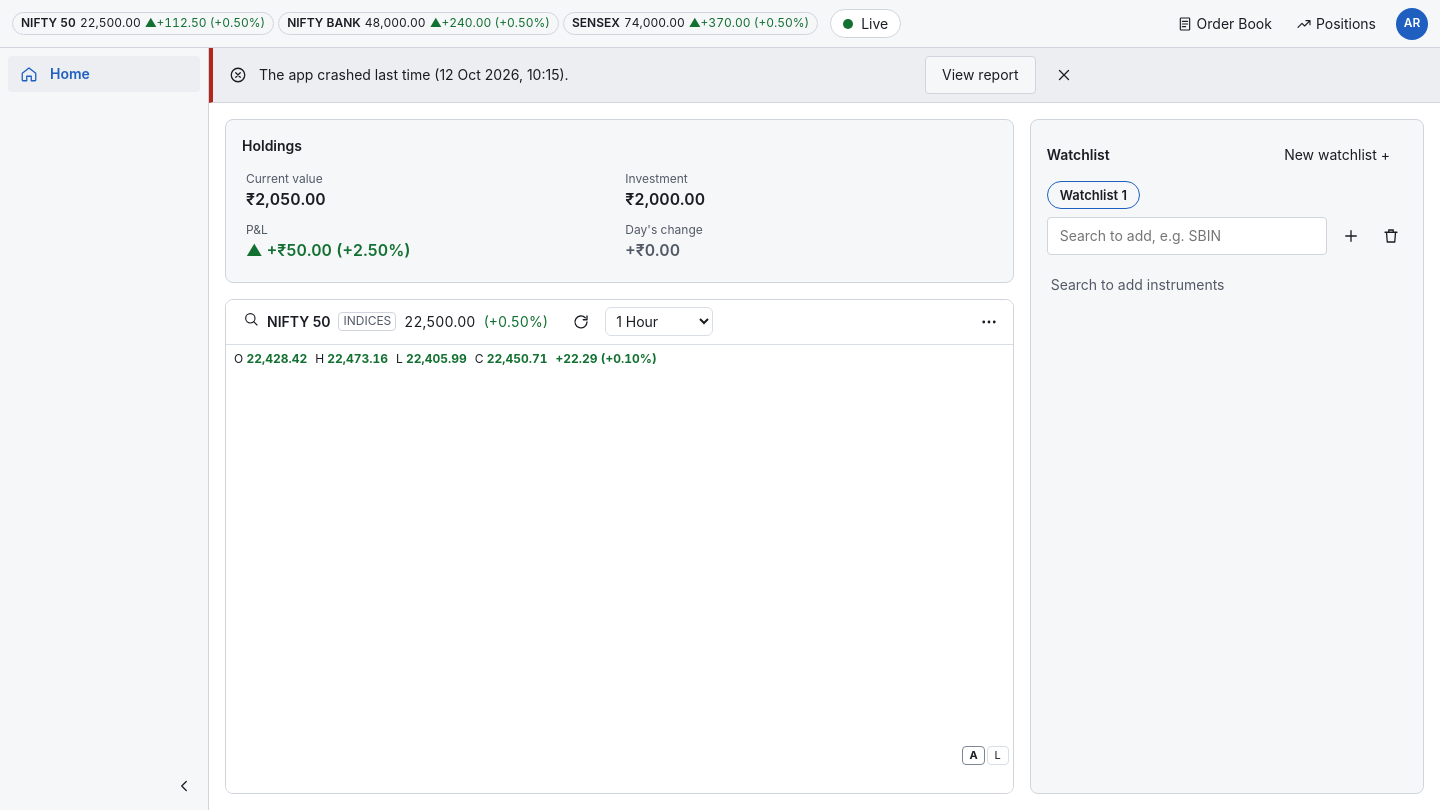
Test case: FR-SHELL-018 diagnostics (UI) › AC2 (UI): after a crash the next start shows "The app crashed last time" with View report
Expected: the text "The app crashed last time (12 Oct 2026, 10:15)." is shown, [259, 66, 569, 83]
Click the button "View report" at (980, 75), box [925, 56, 1036, 94]
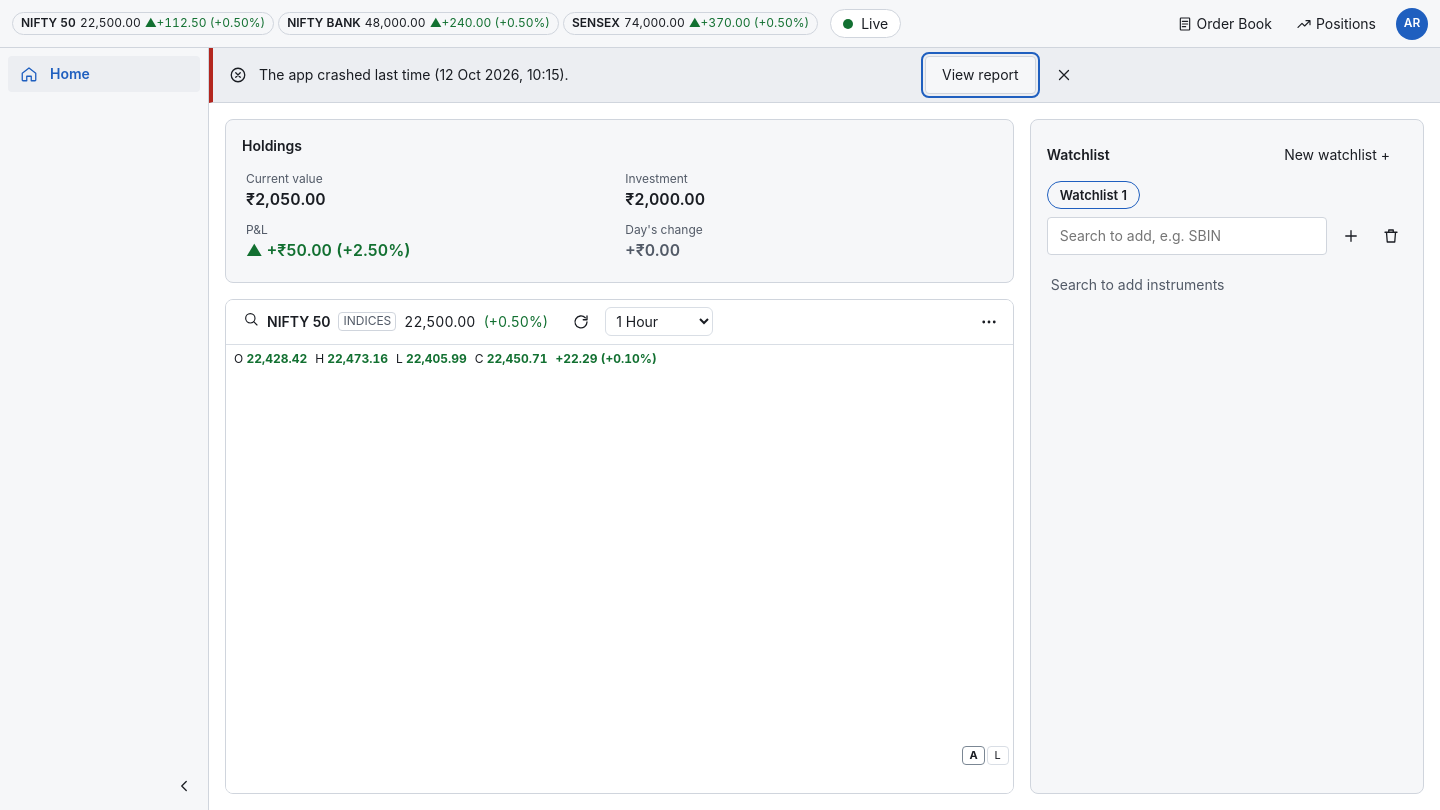
Click the button named "Dismiss crash notice" at (1064, 75), box [1048, 59, 1080, 91]
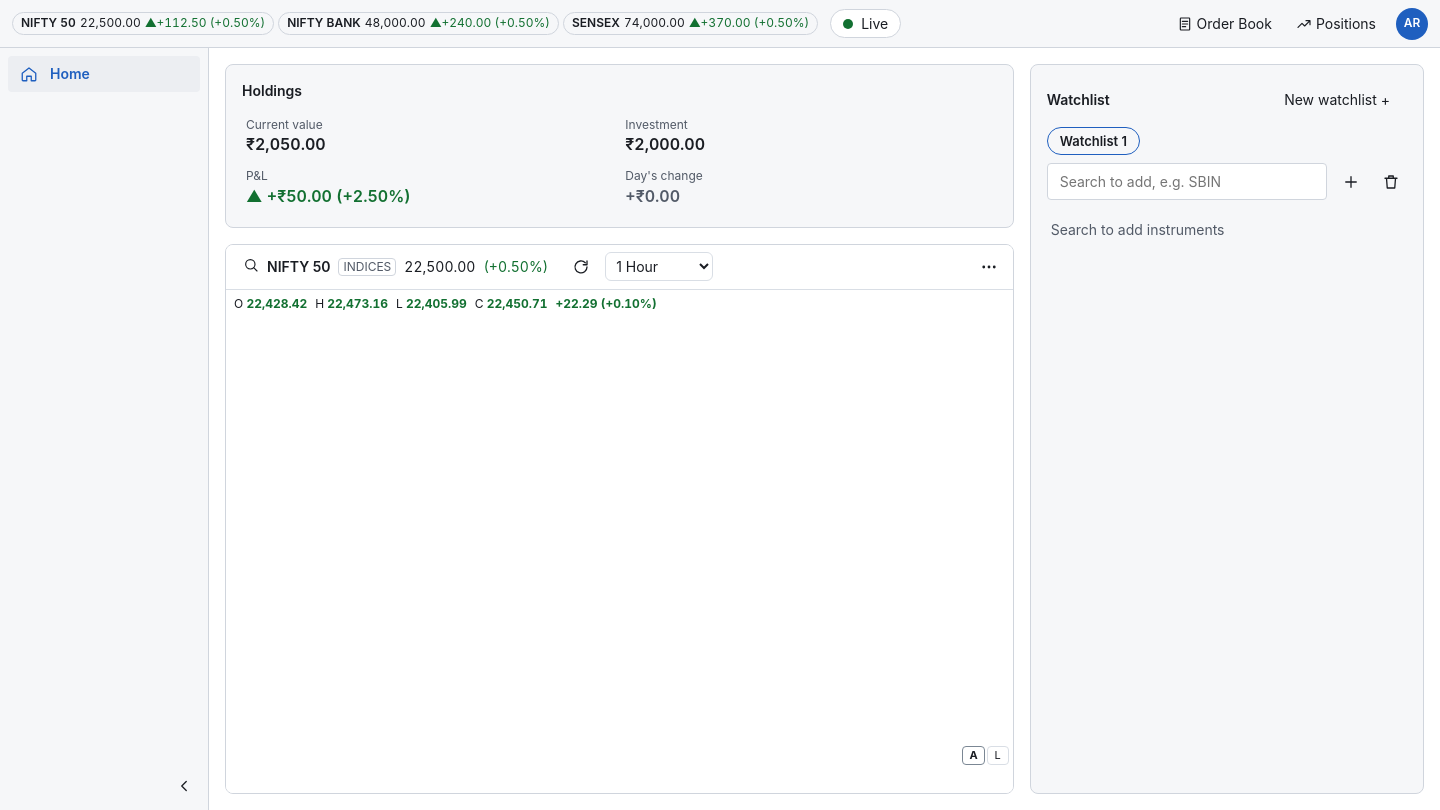
Expected: the text "The app crashed last time" is gone
